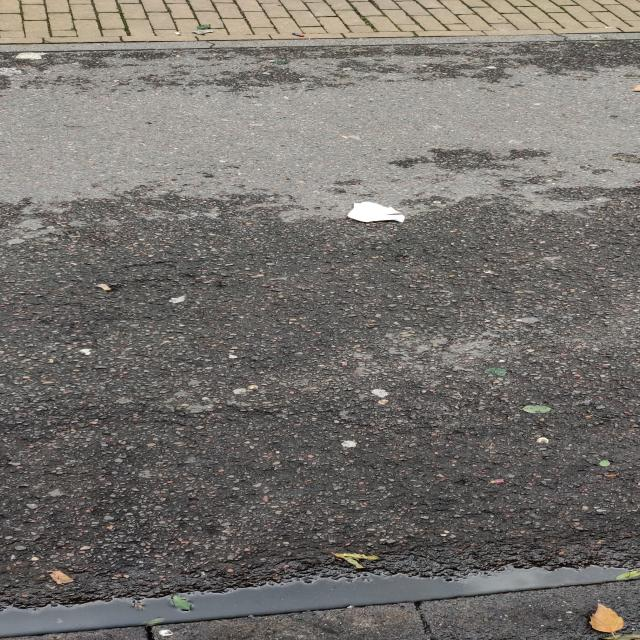litter: (345, 201, 405, 223), (292, 33, 305, 36), (589, 35, 601, 37)
